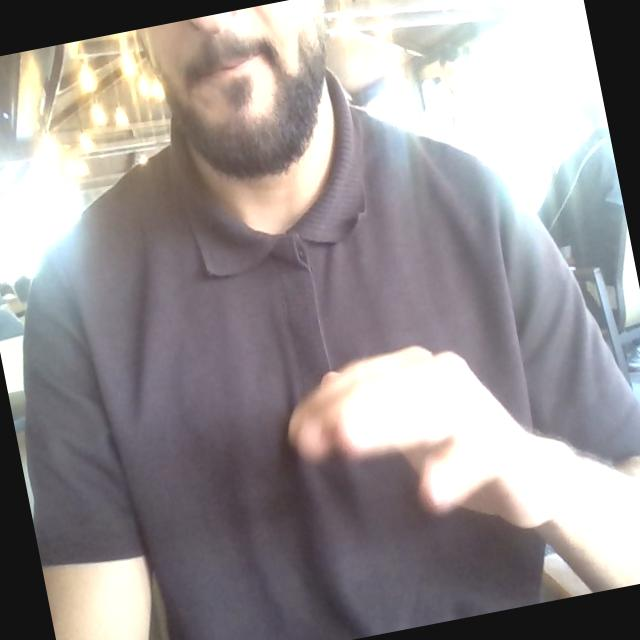Hand: (289, 347, 571, 527)
